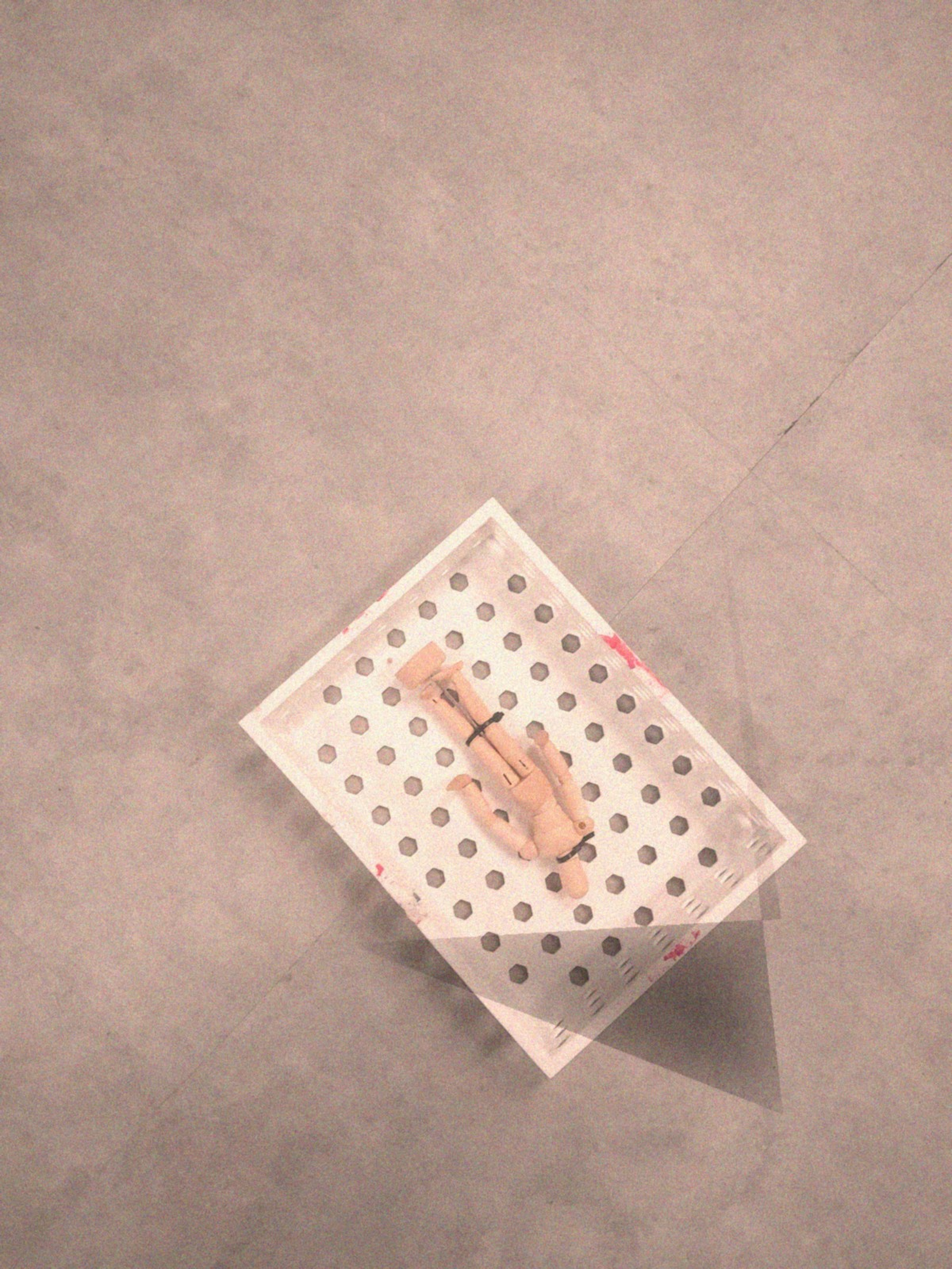basket: (232, 490, 809, 1087)
mannequin: (388, 638, 599, 908)
